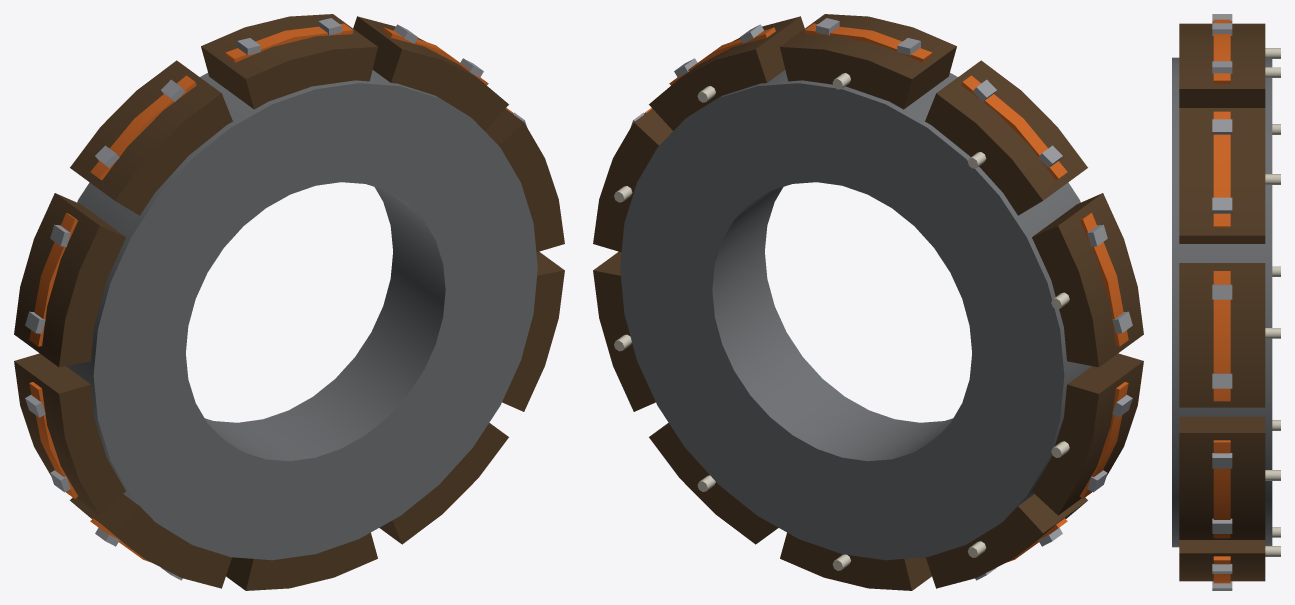
Rendered from u65m_coil_ring.obj.
The picture shows the model from 3 angles, left to right: view 1: azimuth 30°, elevation 25°; view 2: azimuth 150°, elevation 25°; view 3: azimuth 270°, elevation 25°; orthographic projection. The views are drawn at different scales.
Visible parts, largest first — view 1: u65m_coil_ring; view 2: u65m_coil_ring; view 3: u65m_coil_ring.
Boxes of the visible parts, x1,y1,x2,y2 form: u65m_coil_ring: (14,14,564,590); u65m_coil_ring: (593,14,1143,590); u65m_coil_ring: (1172,14,1280,590).
Bounding box in the file's own units: 3.99 × 3.96 × 0.76.
